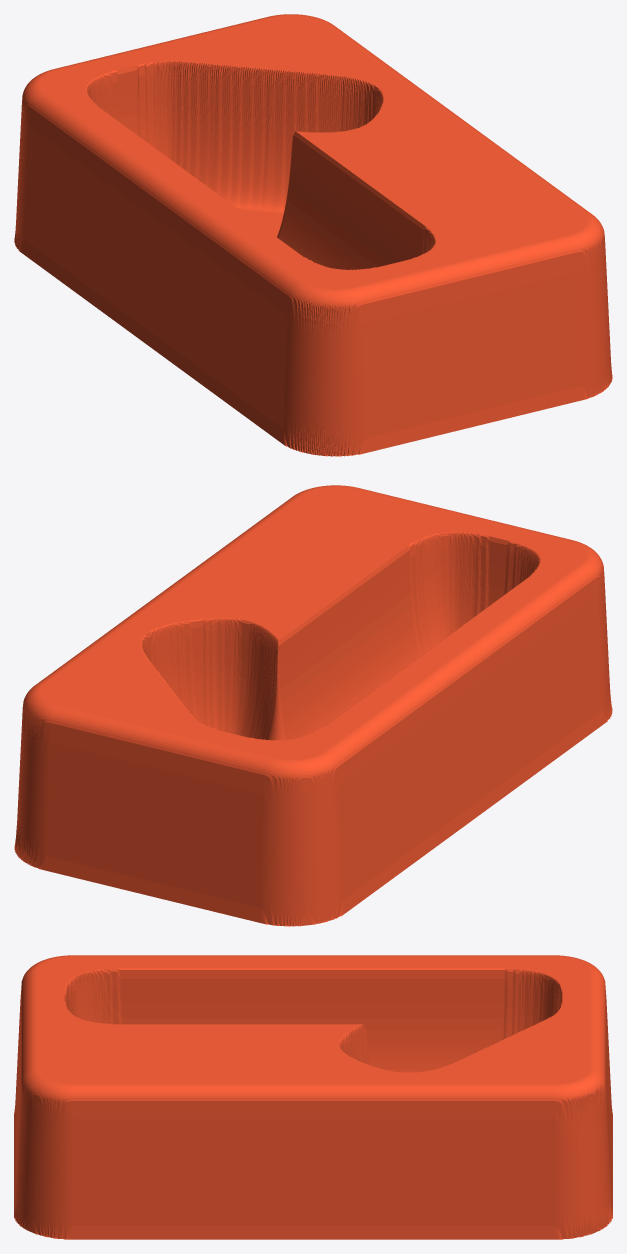
File: mold.glb
3 views of the same model, one above another, from view 1: azimuth 30°, elevation 25°; view 2: azimuth 150°, elevation 25°; view 3: azimuth 270°, elevation 25° (orthographic). The views are drawn at different scales.
Parts seen in each view (by area): view 1: geometry_0; view 2: geometry_0; view 3: geometry_0.
Boxes of the visible parts, <box> form: geometry_0: <box>14,14,612,456</box>; geometry_0: <box>14,485,612,926</box>; geometry_0: <box>14,955,612,1239</box>.
Size of the model in its own units: 0.0536 by 0.0248 by 0.0924.
